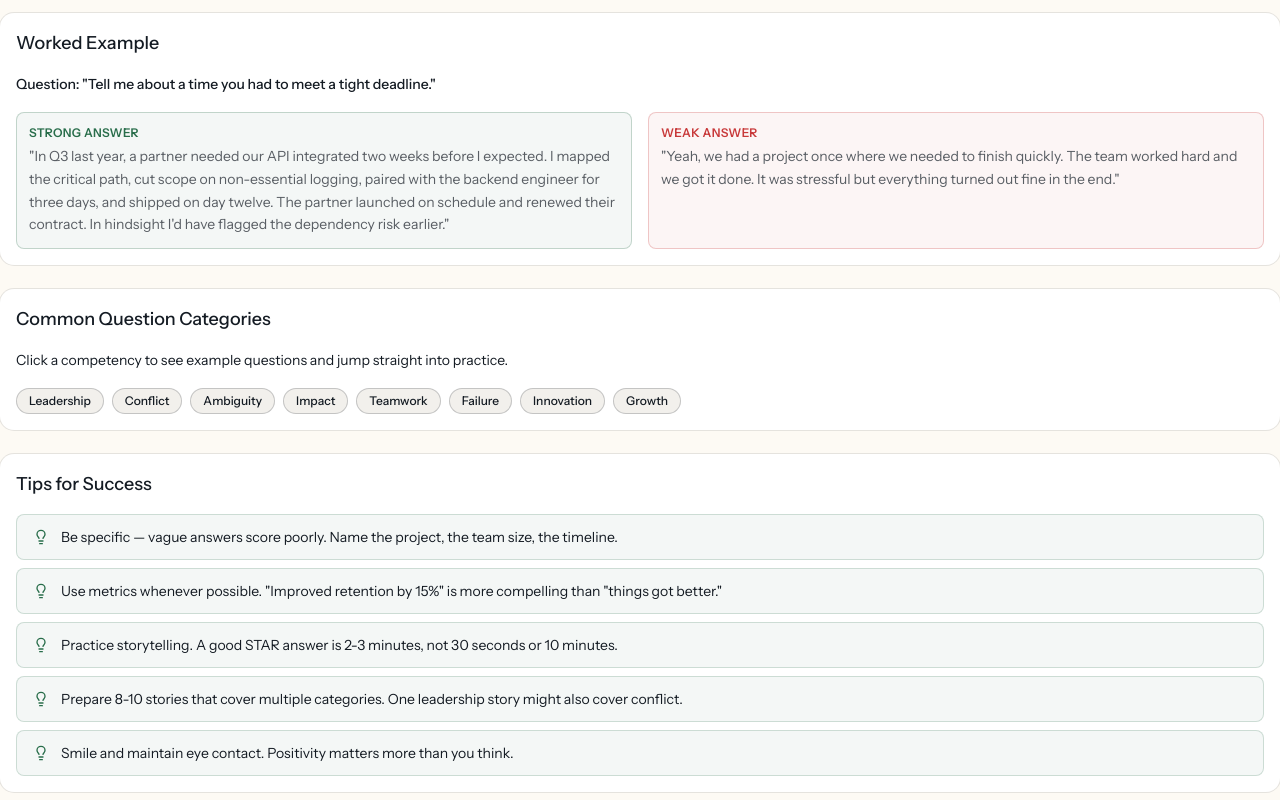
BehavioralPage › clicking a competency chip expands example questions for that competency
The image size is (1280, 800).
(page scrolled)
Click the button with test id "chip-Leadership": click(60, 401) [16,388,104,414]
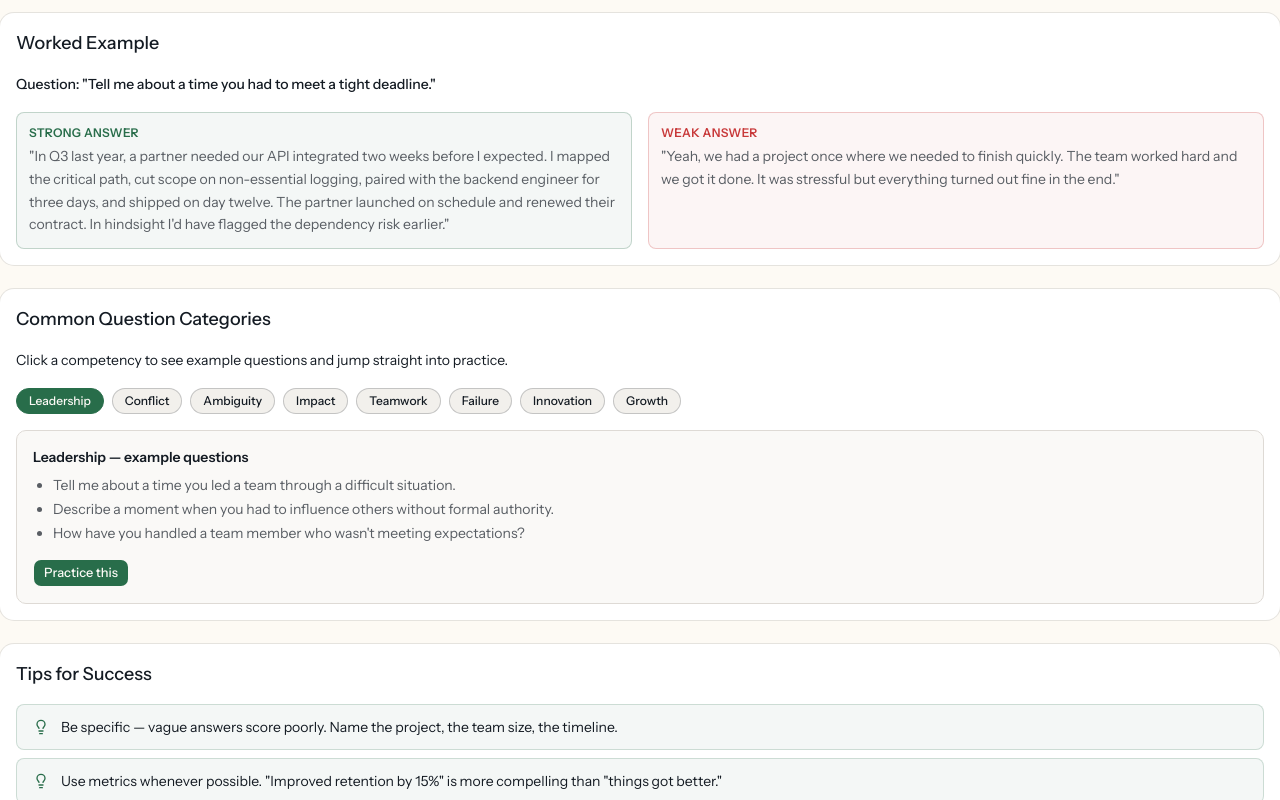
Check: the element with test id "panel-Leadership" is shown, box [16,430,1264,604]
